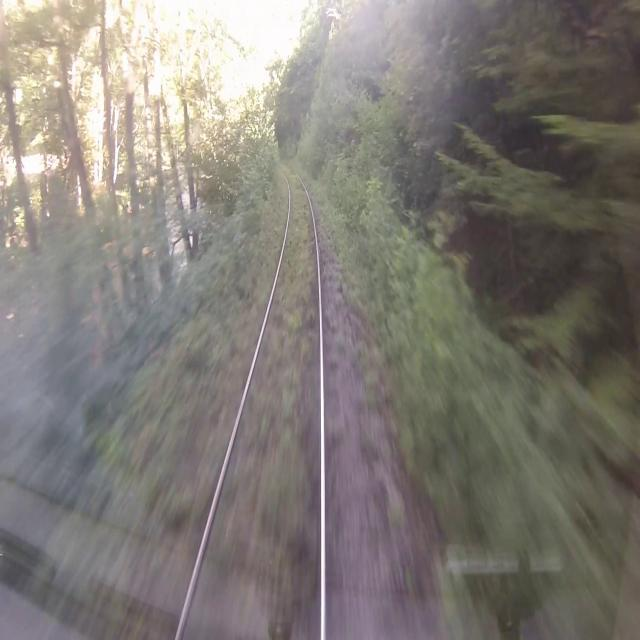Plant: (146, 161, 286, 637), (182, 175, 321, 639), (292, 159, 360, 639)
